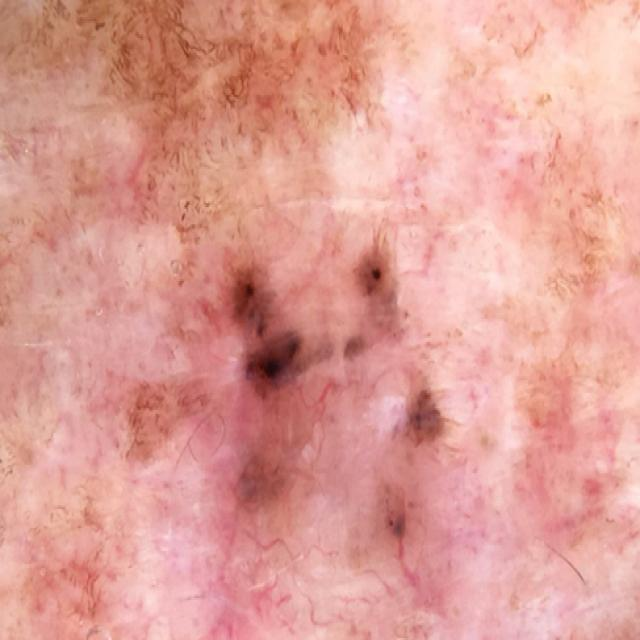Carcinoma: (113, 207, 572, 591)
